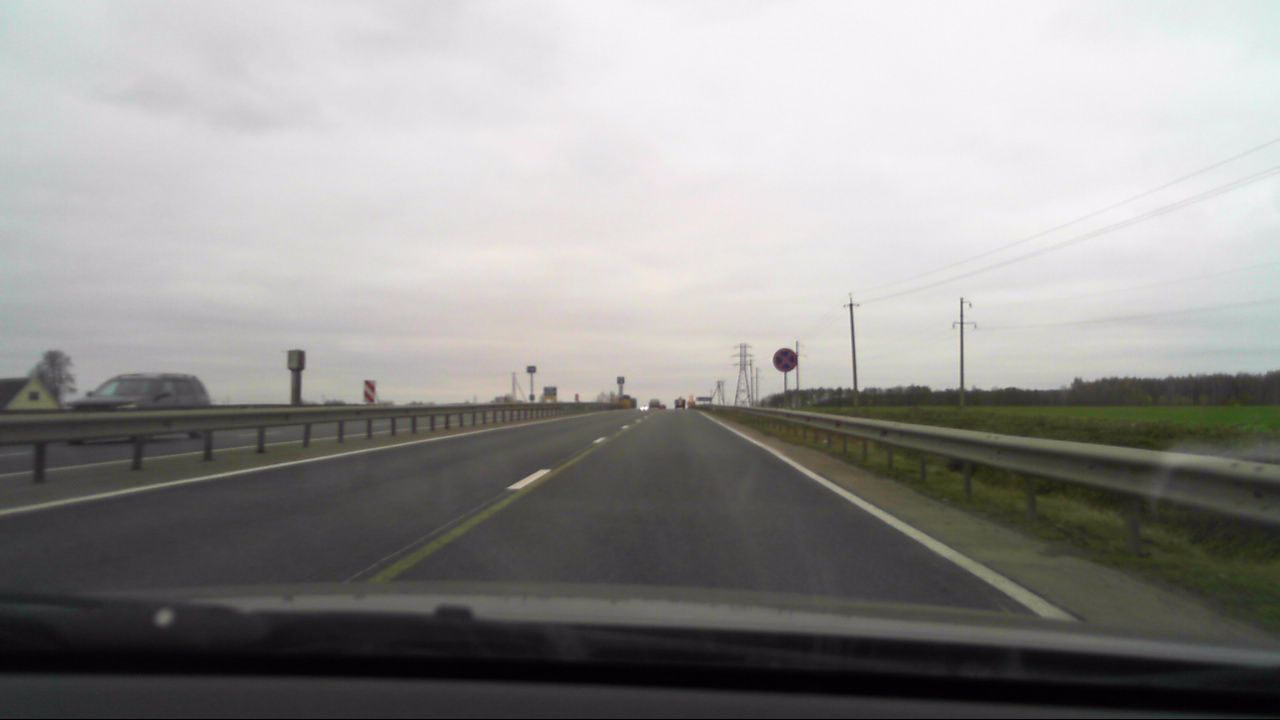No Parking: (770, 348, 796, 374)
